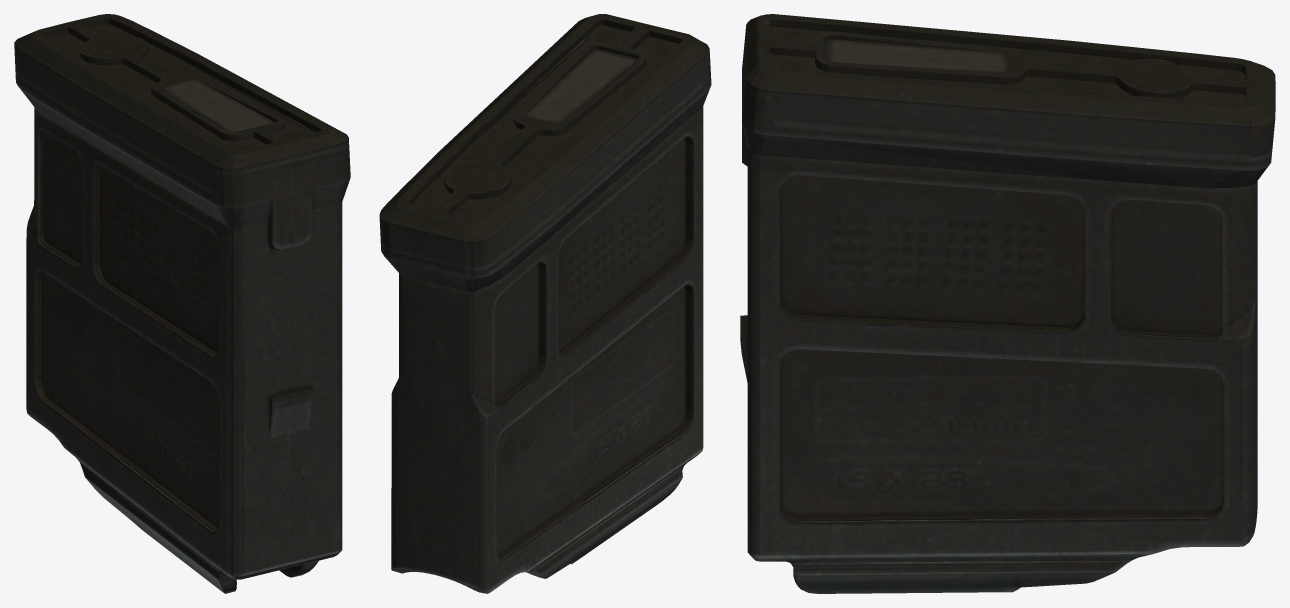
The picture shows the model from 3 angles, left to right: view 1: azimuth 30°, elevation 25°; view 2: azimuth 150°, elevation 25°; view 3: azimuth 270°, elevation 25°; orthographic projection. The views are drawn at different scales.
Visible parts, largest first — view 1: TW_5ce69cbad7f00c00b61c5098_PZ_Import; view 2: TW_5ce69cbad7f00c00b61c5098_PZ_Import; view 3: TW_5ce69cbad7f00c00b61c5098_PZ_Import.
Part boxes in pixels (x1=…): TW_5ce69cbad7f00c00b61c5098_PZ_Import: x1=14, y1=14, x2=350, y2=593; TW_5ce69cbad7f00c00b61c5098_PZ_Import: x1=379, y1=14, x2=711, y2=593; TW_5ce69cbad7f00c00b61c5098_PZ_Import: x1=740, y1=14, x2=1275, y2=593.
Size of the model in its own units: 0.0149 by 0.0456 by 0.0499.
1 material, 1 textured.
